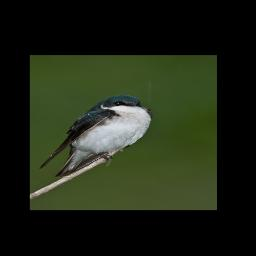Swallow: (39, 93, 155, 178)
